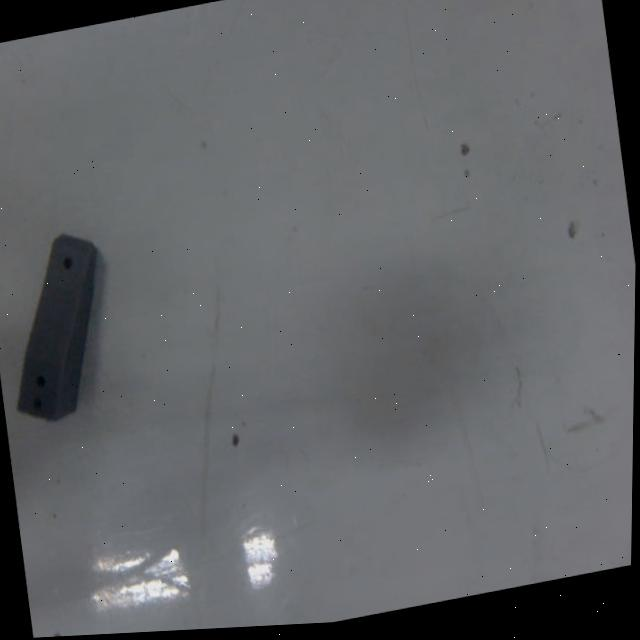grey: (0, 225, 121, 432)
head: (59, 253, 74, 272)
